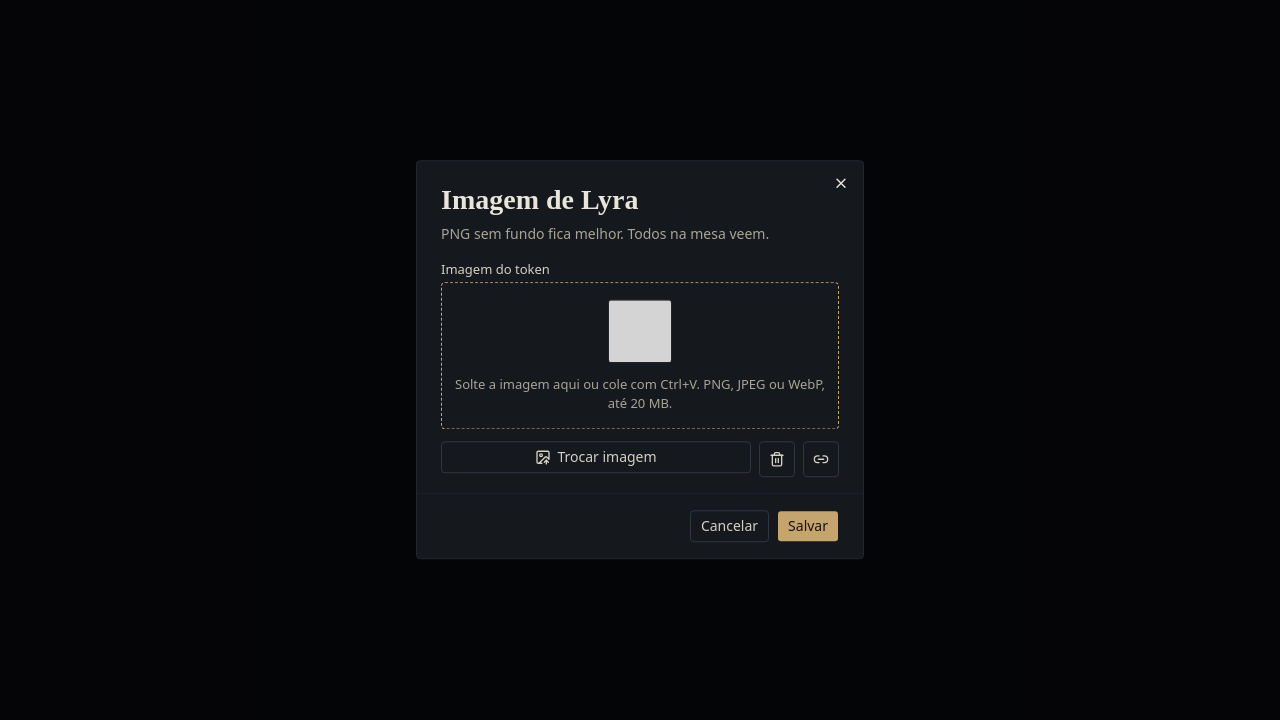
Test case: TokenImageDialog › a refusal shows in an alert and keeps the dialog open
Click the button "Salvar".
click(808, 527)  # box 777,511 -> 839,543
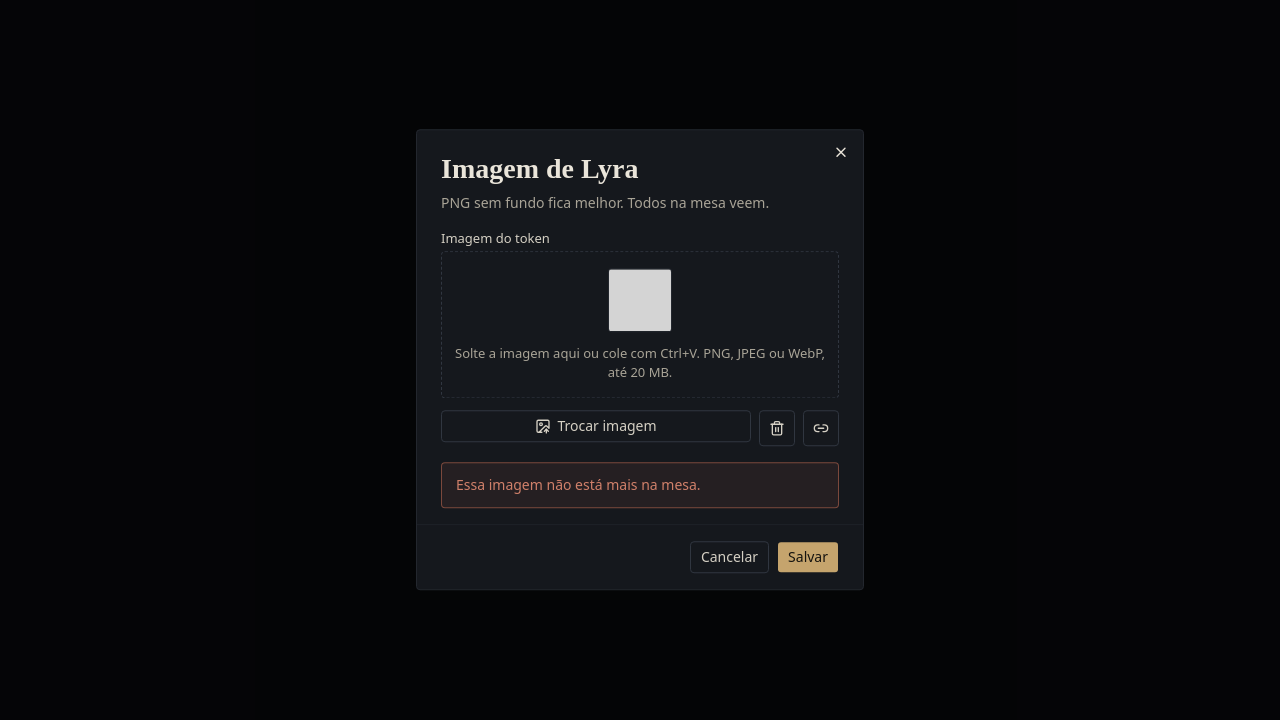
Result: the message reads "Essa imagem não está mais na mesa." at 456,476 -> 701,495
